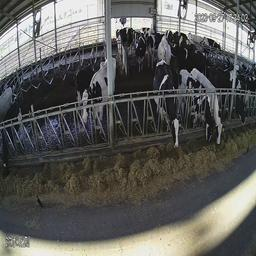cow: (79, 48, 120, 139), (153, 55, 179, 164), (179, 70, 214, 150), (2, 95, 21, 188), (212, 81, 227, 153), (225, 74, 245, 127), (115, 19, 134, 48), (134, 31, 145, 75), (159, 32, 172, 66), (188, 29, 208, 50), (147, 28, 157, 61)
